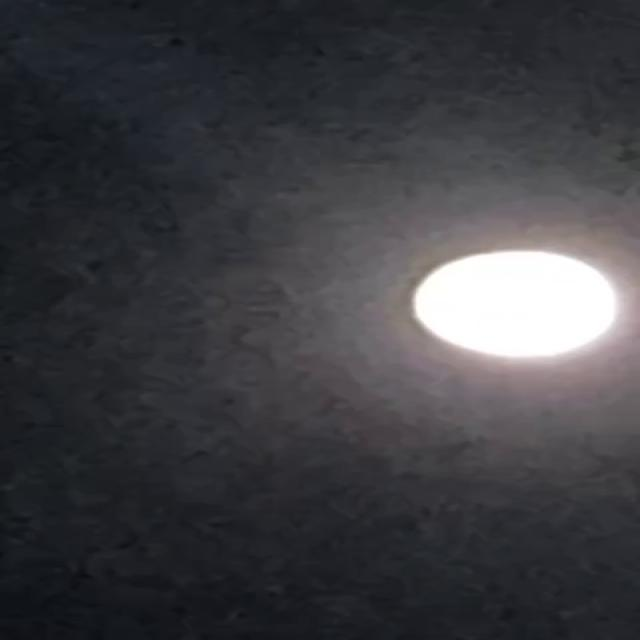moon: (401, 250, 628, 371)
